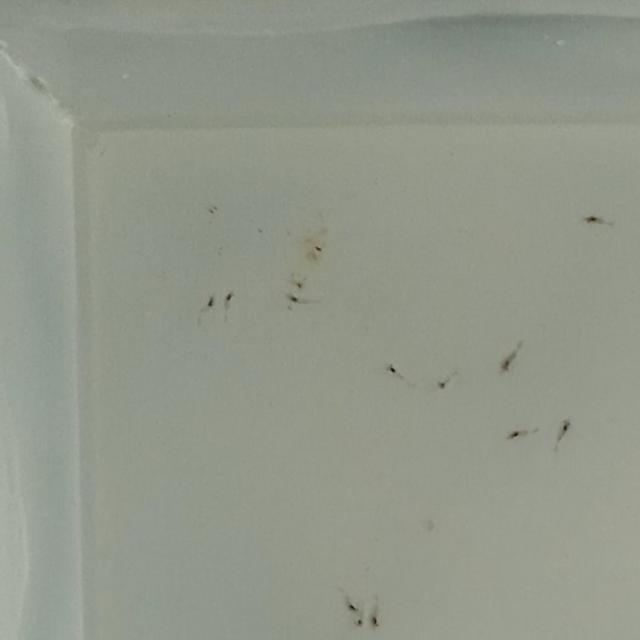shrimp-seed: (496, 353, 518, 377), (580, 209, 604, 227), (384, 361, 404, 378), (284, 290, 300, 306), (432, 377, 448, 392), (558, 419, 573, 433), (507, 427, 521, 442), (368, 614, 382, 628), (352, 614, 366, 628), (205, 295, 217, 309), (224, 290, 236, 302), (346, 602, 356, 613)
